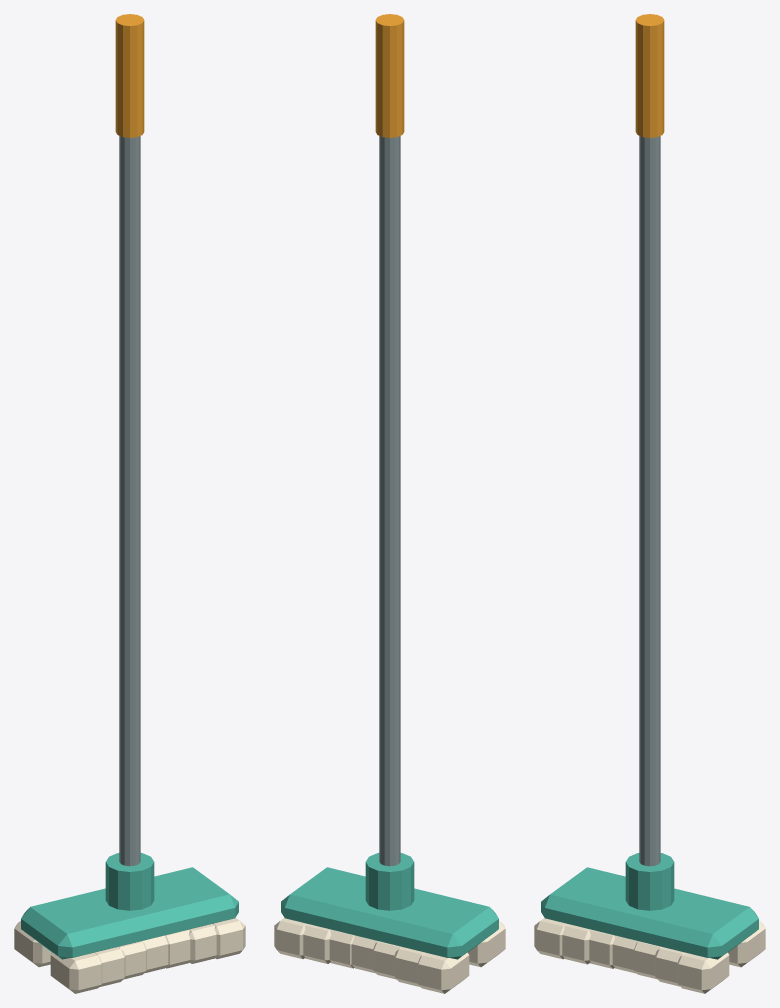
Rendered from Tools-Mop.fbx.
3 views of the same model, side by side, from view 1: azimuth 30°, elevation 25°; view 2: azimuth 150°, elevation 25°; view 3: azimuth 330°, elevation 25° (orthographic).
Parts seen in each view (by area): view 1: Shaft, Mop Head, Hand Grip, Neck Socket, Cotton Bundle, Cotton Bundle.006, Cotton Bundle.005, Cotton Bundle.007, Cotton Bundle.001, Cotton Bundle.004, Cotton Bundle.002, Cotton Bundle.003; view 2: Shaft, Mop Head, Hand Grip, Neck Socket, Cotton Bundle.007, Cotton Bundle.013, Cotton Bundle.012, Cotton Bundle, Cotton Bundle.008, Cotton Bundle.011, Cotton Bundle.009, Cotton Bundle.010; view 3: Shaft, Mop Head, Hand Grip, Neck Socket, Cotton Bundle.006, Cotton Bundle, Cotton Bundle.001, Cotton Bundle.013, Cotton Bundle.002, Cotton Bundle.005, Cotton Bundle.003, Cotton Bundle.004.
Boxes of the visible parts, box(x1,y1,x2,y2) form: Shaft: box(119, 136, 140, 866); Mop Head: box(21, 867, 238, 959); Hand Grip: box(115, 14, 144, 137); Neck Socket: box(105, 853, 154, 910); Cotton Bundle: box(50, 952, 102, 993); Cotton Bundle.006: box(213, 918, 245, 959); Cotton Bundle.005: box(189, 924, 216, 963); Cotton Bundle.007: box(14, 920, 51, 967); Cotton Bundle.001: box(95, 947, 125, 986); Cotton Bundle.004: box(165, 929, 190, 968); Cotton Bundle.002: box(118, 941, 146, 979); Cotton Bundle.003: box(142, 935, 168, 973); Shaft: box(379, 136, 400, 866); Mop Head: box(281, 867, 498, 959); Hand Grip: box(375, 14, 404, 137); Neck Socket: box(365, 853, 414, 910); Cotton Bundle.007: box(417, 952, 469, 993); Cotton Bundle.013: box(274, 918, 306, 959); Cotton Bundle.012: box(303, 924, 330, 963); Cotton Bundle: box(468, 920, 505, 967); Cotton Bundle.008: box(394, 947, 424, 986); Cotton Bundle.011: box(329, 929, 354, 968); Cotton Bundle.009: box(373, 941, 401, 979); Cotton Bundle.010: box(351, 935, 377, 973); Shaft: box(639, 136, 660, 866); Mop Head: box(541, 867, 758, 959); Hand Grip: box(635, 14, 664, 137); Neck Socket: box(625, 853, 674, 910); Cotton Bundle.006: box(677, 952, 729, 993); Cotton Bundle: box(534, 918, 566, 959); Cotton Bundle.001: box(562, 924, 590, 964); Cotton Bundle.013: box(728, 921, 765, 967); Cotton Bundle.002: box(589, 929, 614, 968); Cotton Bundle.005: box(655, 947, 685, 986); Cotton Bundle.003: box(612, 935, 637, 973); Cotton Bundle.004: box(634, 941, 661, 979).
Size of the model in its own units: 0.276 by 1.36 by 0.163.
